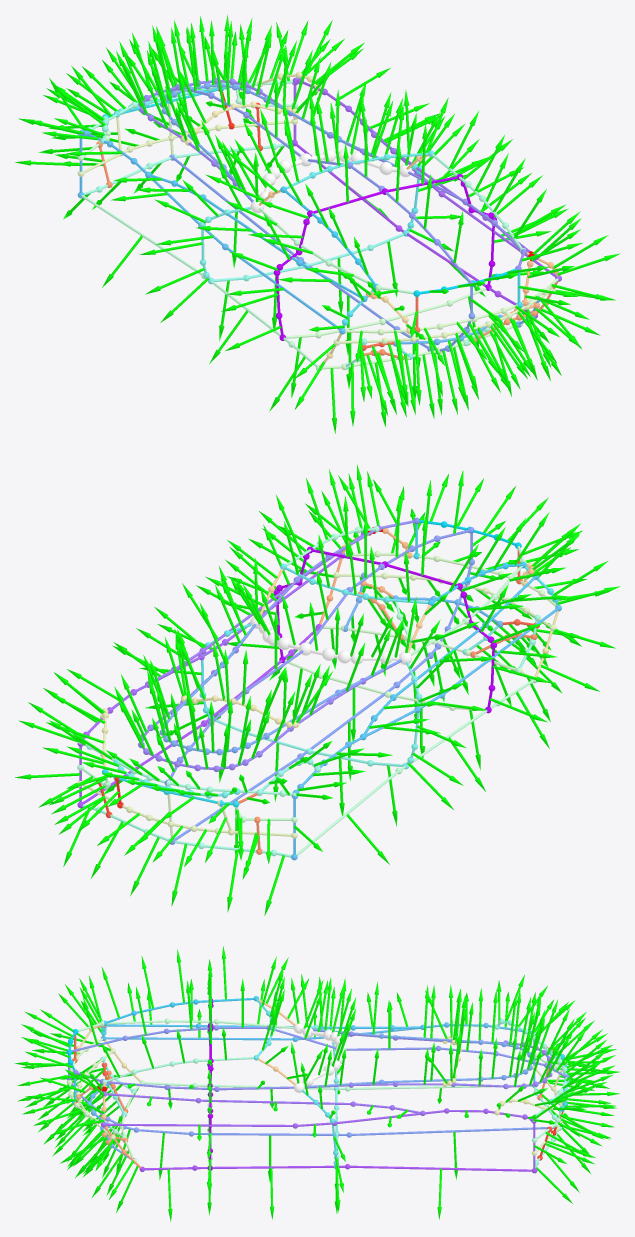
Rendered from t2f_car_93.gltf.
The picture shows the model from 3 angles, top to bottom: view 1: azimuth 30°, elevation 25°; view 2: azimuth 150°, elevation 25°; view 3: azimuth 270°, elevation 25°; orthographic projection. The views are drawn at different scales.
Bounding box in the file's own units: 0.5696 × 0.413 × 1.1.
